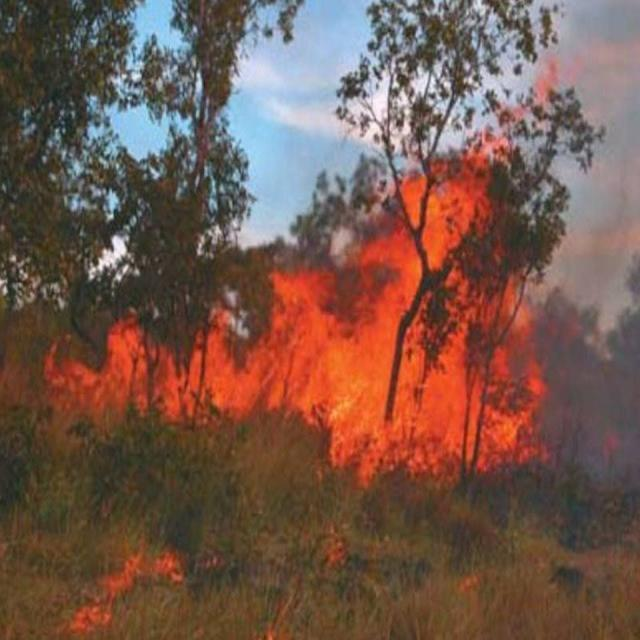Fire: (306, 129, 546, 460), (48, 272, 286, 417), (52, 551, 183, 640)
Smoke: (568, 192, 634, 331)
